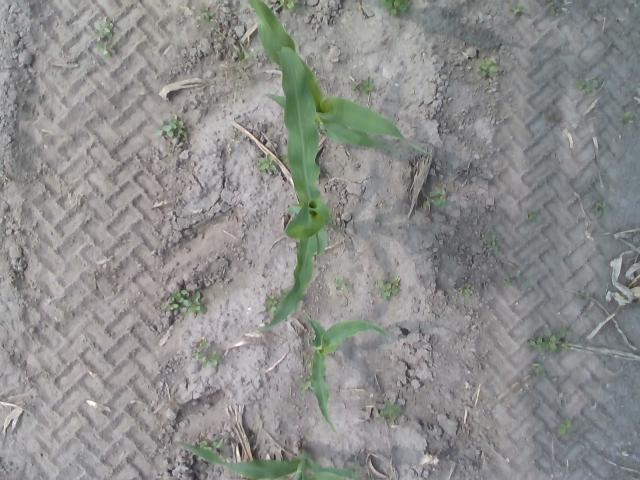Maize: (248, 0, 432, 158), (259, 45, 329, 330), (309, 319, 388, 435), (182, 442, 352, 480)
Weeds: (528, 328, 570, 352), (192, 340, 219, 366), (164, 288, 188, 313), (182, 292, 206, 316), (156, 114, 182, 136), (380, 396, 400, 419), (383, 1, 408, 17), (477, 57, 497, 76), (352, 77, 376, 92), (428, 186, 446, 206), (485, 233, 500, 253), (378, 279, 392, 299), (98, 41, 114, 58), (96, 23, 110, 42), (581, 78, 598, 93), (200, 2, 212, 21), (557, 420, 572, 434), (266, 296, 278, 311), (332, 278, 348, 289), (530, 363, 544, 375), (203, 441, 226, 448), (509, 5, 524, 15), (524, 210, 536, 222), (590, 202, 604, 212), (280, 1, 298, 8), (550, 7, 562, 16), (390, 284, 400, 294), (466, 283, 474, 294), (619, 110, 628, 116)
